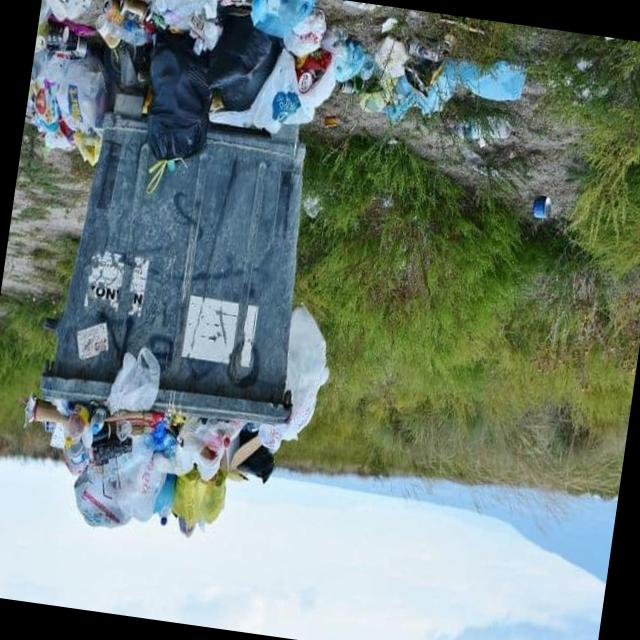high trash: (26, 0, 525, 192), (26, 308, 327, 536)
